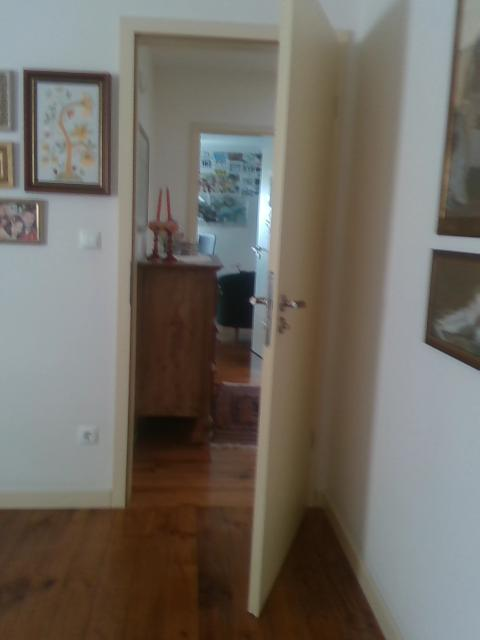semi_door: (114, 1, 353, 621)
